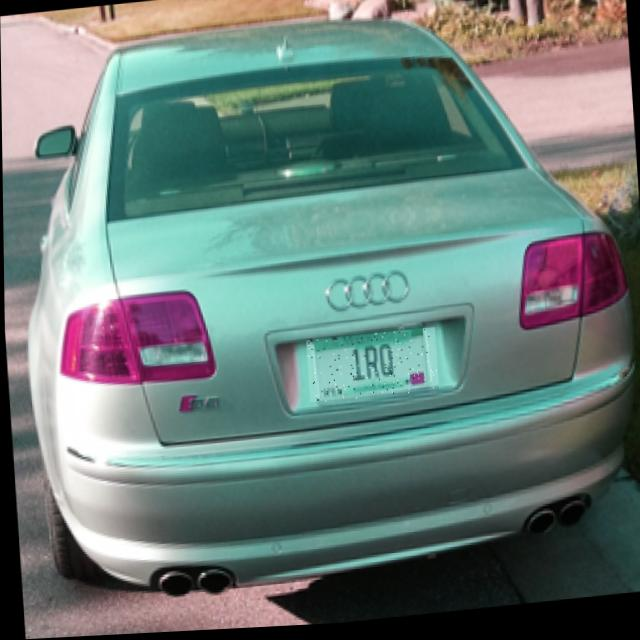license_plate: (305, 332, 438, 408)
